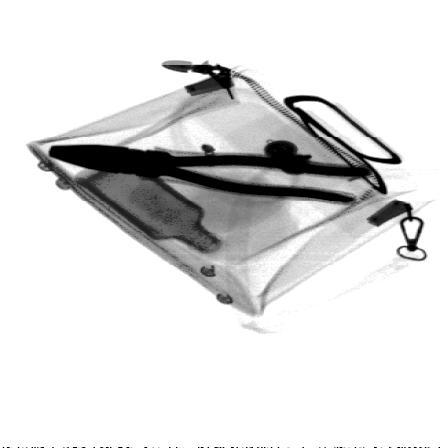Pliers: (46, 143, 375, 205)
